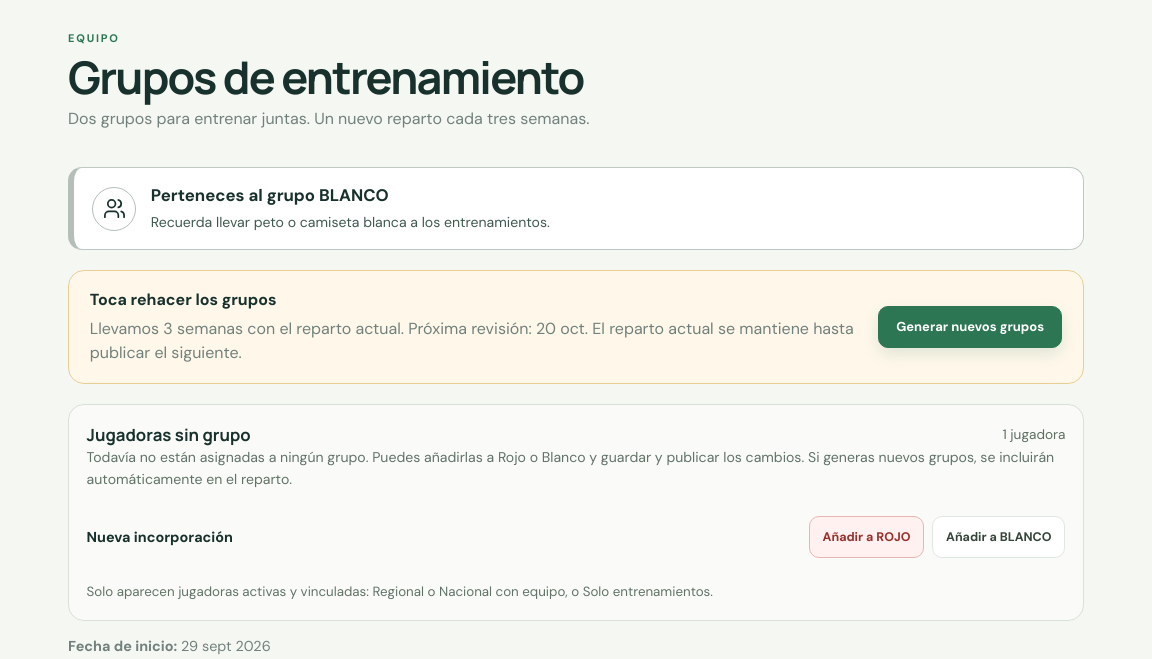
Test: TrainingGroupsView › muestra las altas bajo la renovación y permite añadirlas directamente como owner
Check: the text "Nueva incorporación" is shown, box [87,528,233,546]
Check: the button "Guardar borrador" is not shown
Click the button with aria-label "Añadir a Nueva incorporación al grupo BLANCO" at (999, 537), box [932,516,1065,558]
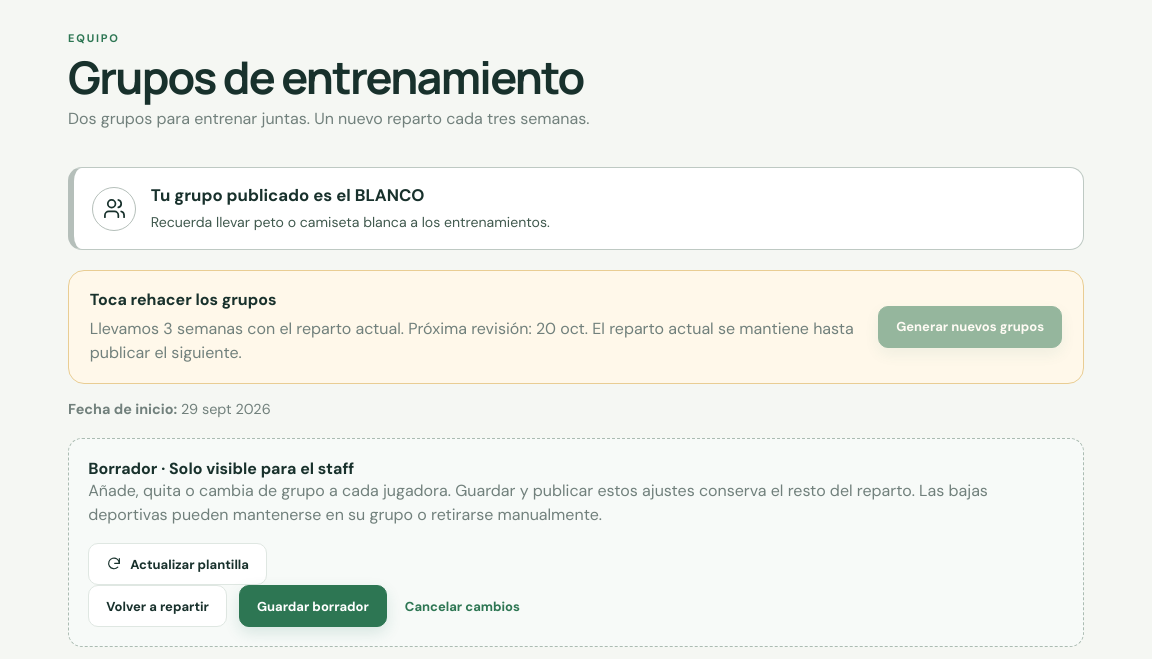
Check: the heading "Jugadoras sin grupo" is gone
Check: the button "Guardar borrador" is enabled
Click the button "Guardar borrador" at (313, 606), box [239,585,387,627]
(page scrolled)
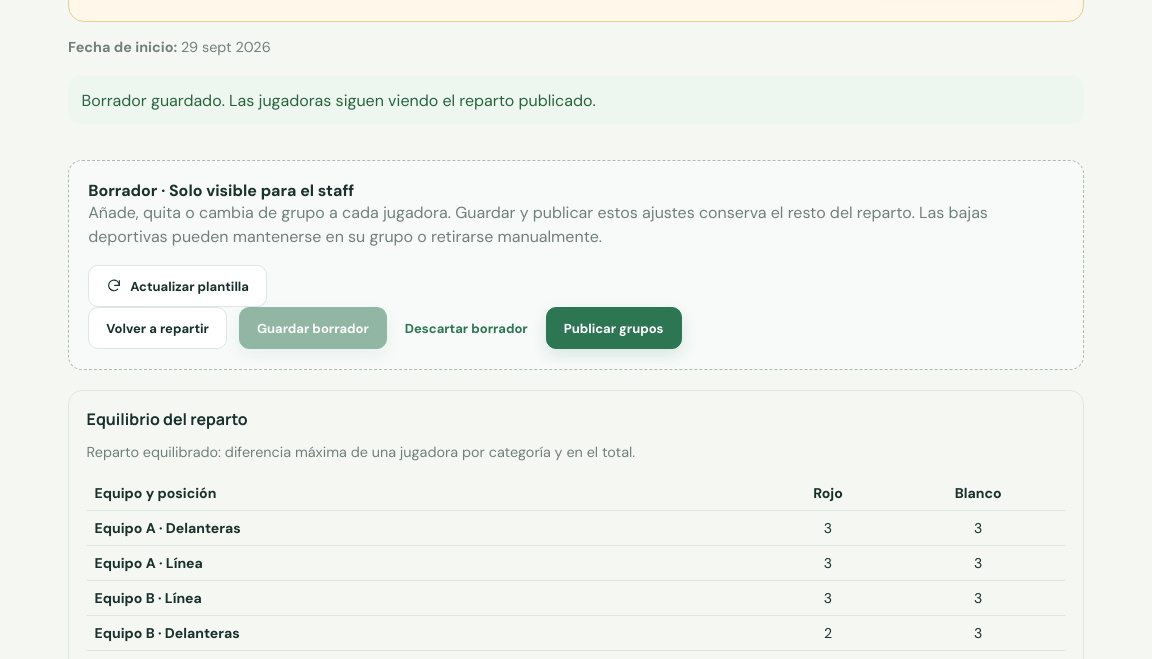
Check: the text "Borrador guardado. Las jugadoras siguen viendo el reparto publicado." is shown, box [68,76,1084,124]
Click the button "Publicar grupos" at (614, 328), box [546,307,682,349]
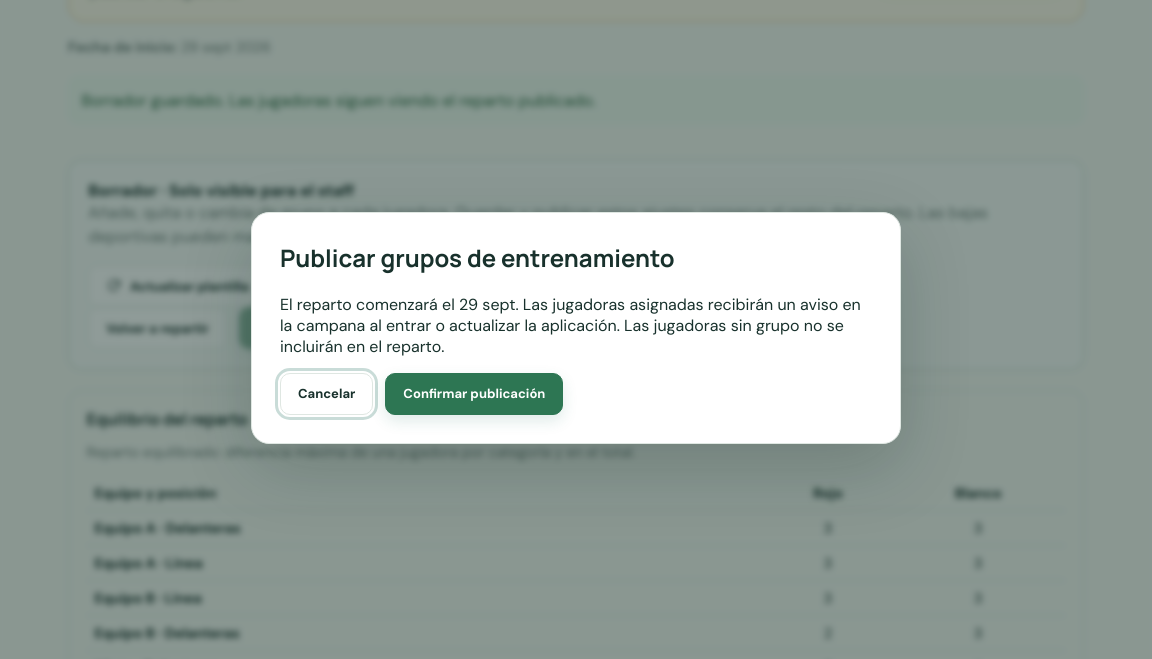
Click the button "Confirmar publicación" at (474, 394), box [385,373,563,415]
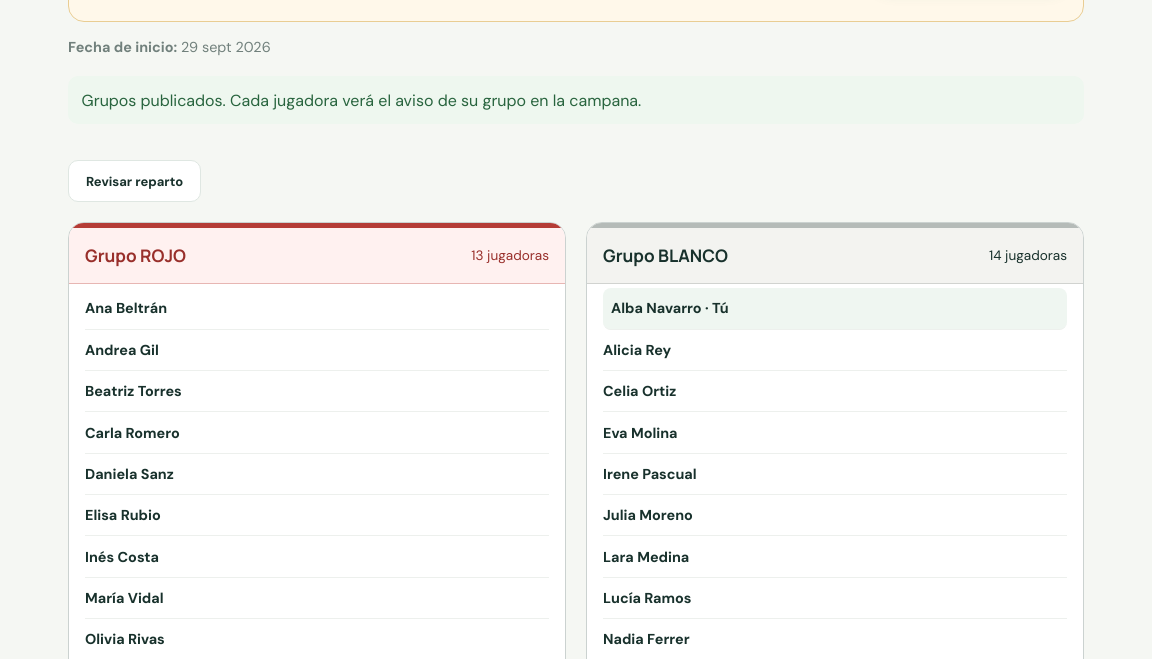
Check: the text "Grupos publicados. Cada jugadora verá el aviso de su grupo en la campana." is shown, box [68,76,1084,124]
